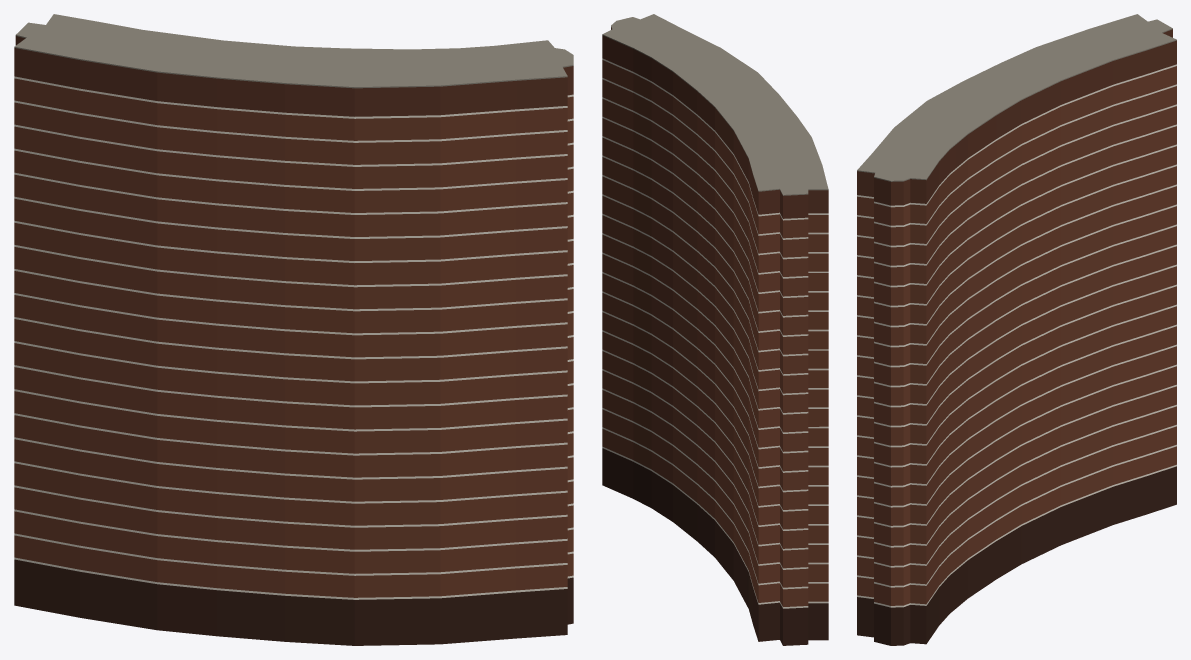
File: encore.glb
3 views of the same model, side by side, from view 1: azimuth 30°, elevation 25°; view 2: azimuth 150°, elevation 25°; view 3: azimuth 270°, elevation 25° (orthographic). The views are drawn at different scales.
Visible parts, largest first — view 1: Tower; view 2: Tower; view 3: Tower.
Boxes of the visible parts, <box> form: Tower: <box>14,14,573,645</box>; Tower: <box>602,14,828,645</box>; Tower: <box>857,14,1176,645</box>.
Size of the model in its own units: 149 by 194 by 121.
